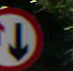Two way: (1, 4, 43, 67)
